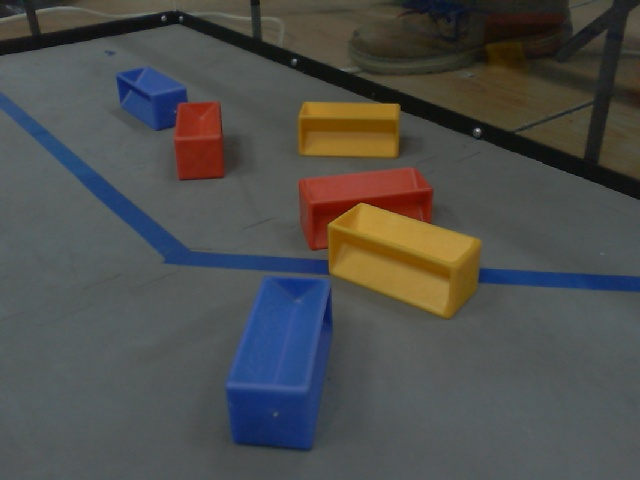BlueSample: (221, 270, 335, 456), (113, 65, 191, 133)
RedSample: (293, 166, 433, 248), (174, 98, 227, 180)
YellowSample: (327, 198, 484, 322), (296, 97, 405, 160)
